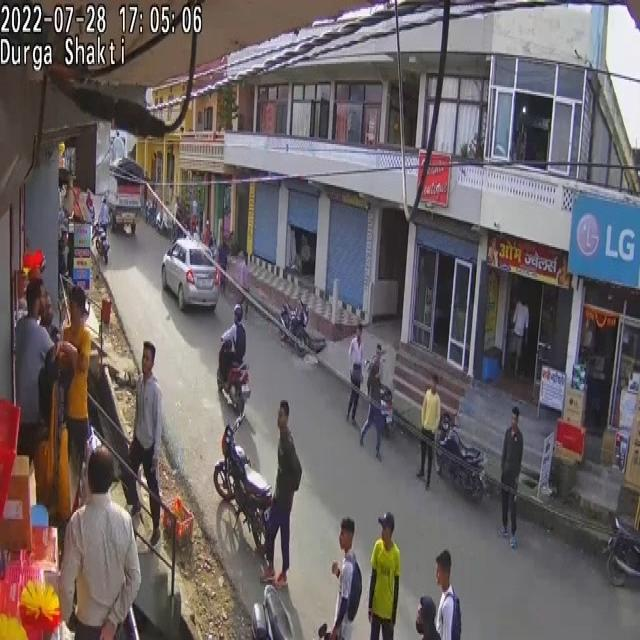fight: (14, 281, 62, 468), (127, 339, 165, 544), (61, 286, 93, 492), (39, 292, 59, 346)
non-fight: (60, 444, 142, 640), (574, 292, 636, 434), (260, 400, 302, 585), (366, 510, 399, 640), (328, 515, 360, 639), (499, 406, 523, 546), (96, 122, 137, 196), (432, 547, 461, 640), (418, 374, 441, 489), (359, 372, 389, 460), (218, 305, 246, 396), (169, 194, 207, 245), (347, 324, 365, 420), (507, 294, 528, 374), (62, 184, 94, 225), (414, 594, 442, 640), (58, 192, 72, 280), (227, 288, 246, 336), (368, 344, 386, 391), (237, 248, 250, 308), (217, 235, 229, 293), (190, 196, 206, 233), (66, 221, 75, 276), (300, 233, 312, 274), (62, 180, 74, 220), (171, 214, 188, 242), (98, 195, 110, 234), (143, 198, 155, 224), (85, 190, 95, 220), (202, 218, 212, 247), (223, 208, 231, 240), (173, 196, 181, 226), (198, 212, 206, 242), (222, 228, 232, 252), (142, 184, 150, 214), (59, 168, 70, 189), (95, 187, 106, 208), (207, 223, 215, 249), (86, 190, 94, 200)
